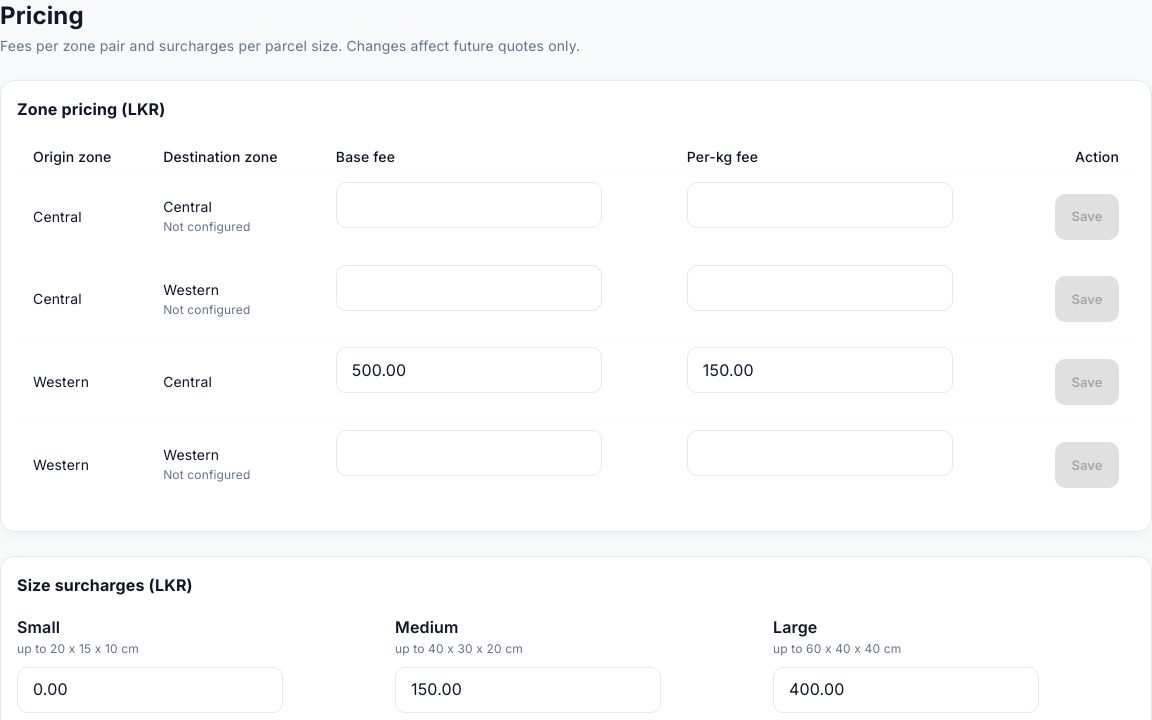
Test: TST-040 Member #5 admin pricing page (FR-PRC-007) › shows a server error and keeps the input when saving fails
Replace the text in the field named "Base fee Western to Central" with "600" at (469, 370), box [336,347,602,393]
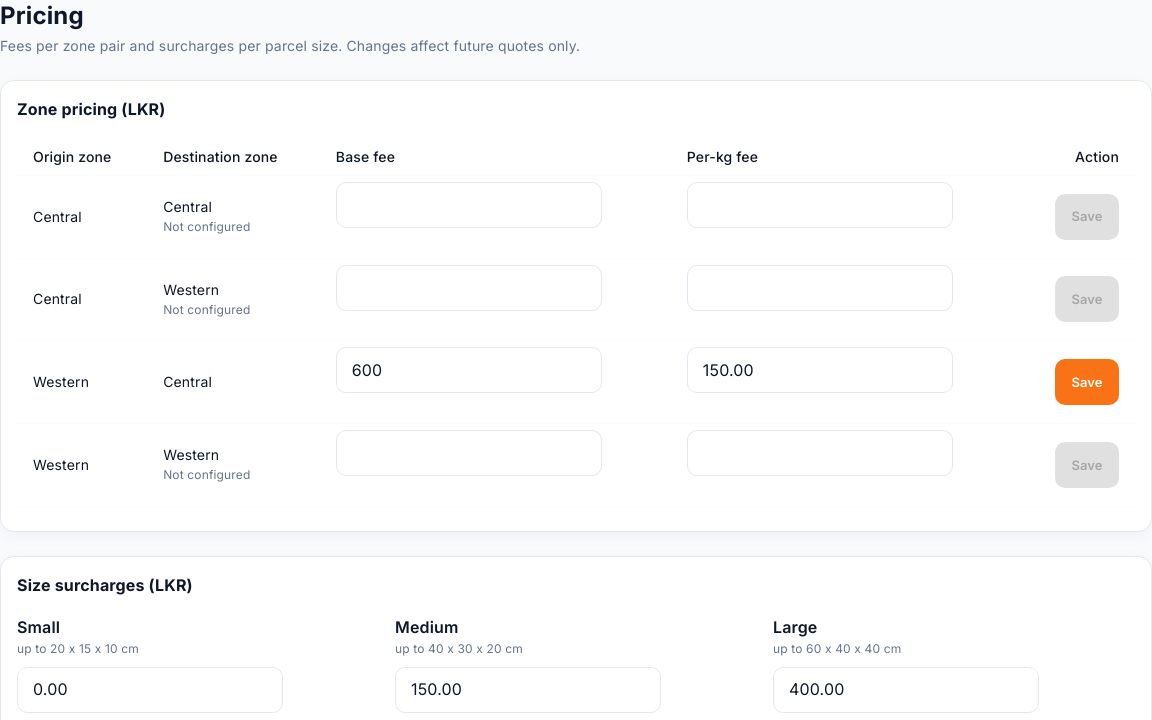
Click the button with aria-label "Save Western to Central" at (1087, 382), box [1055,359,1119,405]
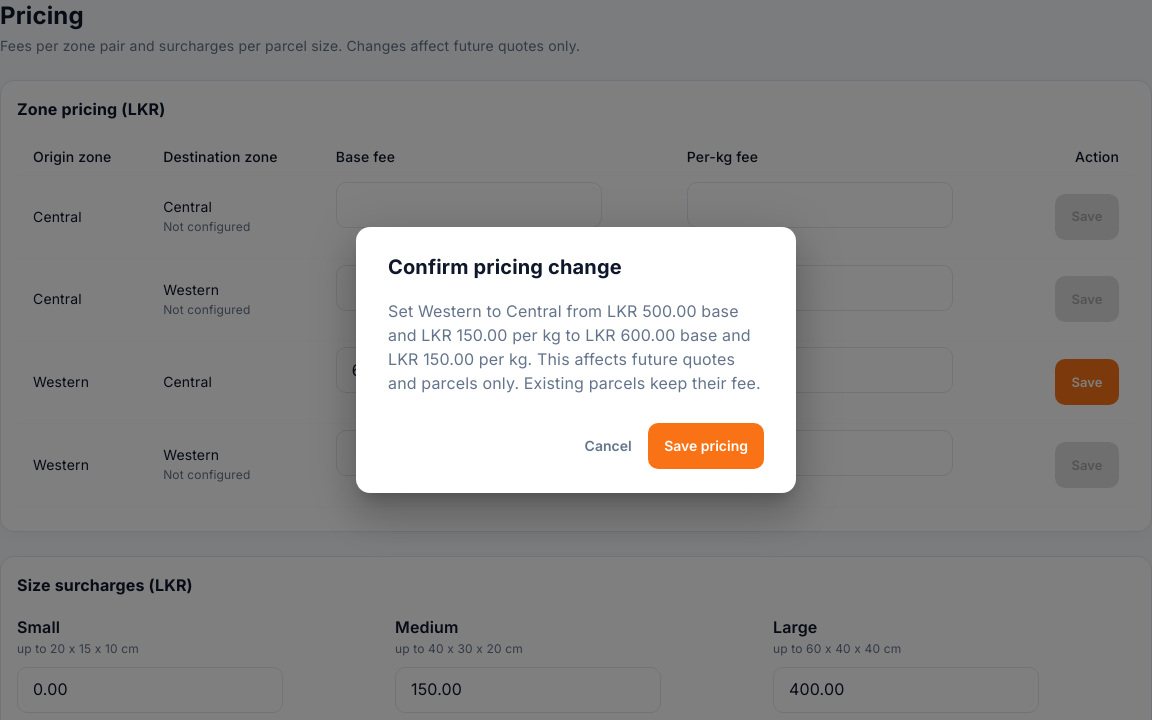
Click the button "Save pricing" at (706, 446), box [648,423,764,469]
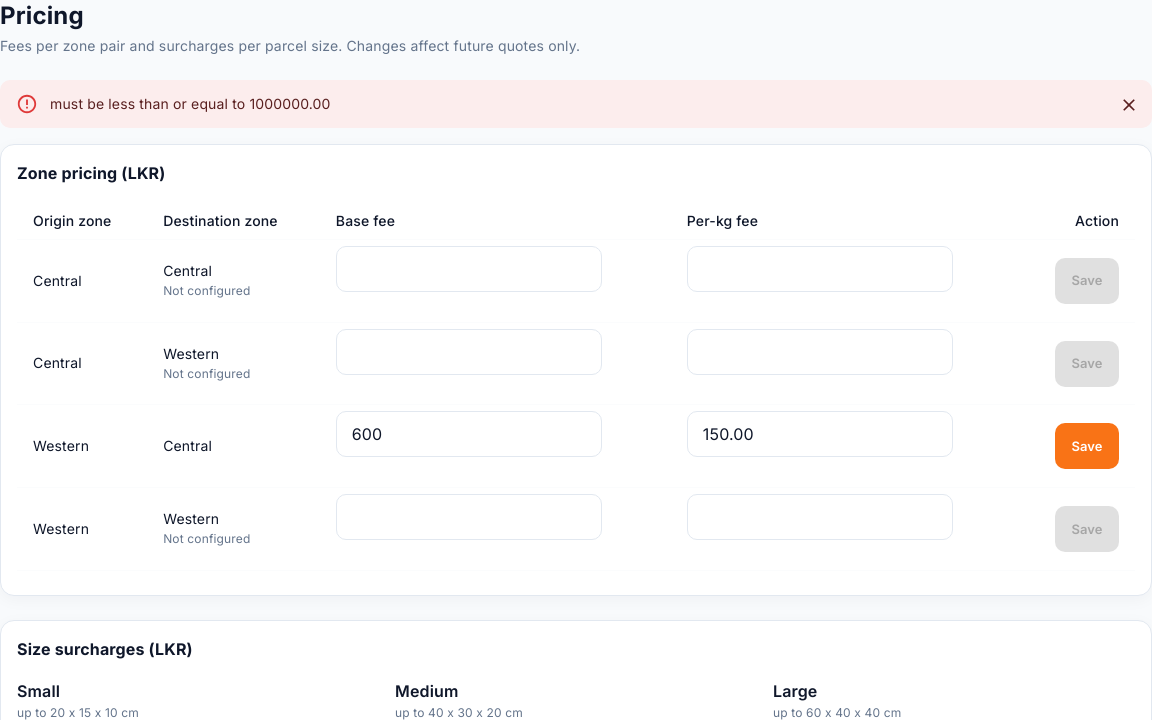
Check: the text "must be less than or equal to 1000000.00" is shown, box [50,95,331,112]
